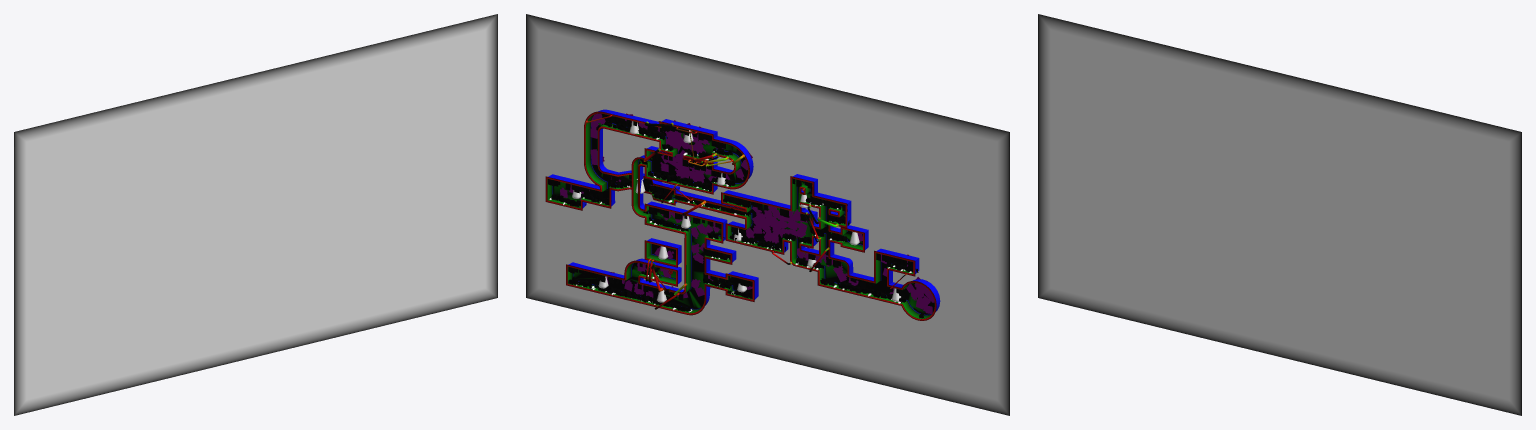
File: lvlmodel_crown01.fbx
The picture shows the model from 3 angles, left to right: view 1: azimuth 30°, elevation 25°; view 2: azimuth 150°, elevation 25°; view 3: azimuth 330°, elevation 25°; orthographic projection.
Parts seen in each view (by area): view 1: model_geometry; view 2: model_geometry; view 3: model_geometry.
Part boxes in pixels (x1,y1,x2,y2): model_geometry: (14, 14, 497, 415); model_geometry: (526, 14, 1009, 415); model_geometry: (1038, 14, 1521, 415).
Size of what is drawn, in the model's own units: 16710 by 9374 by 1764.
